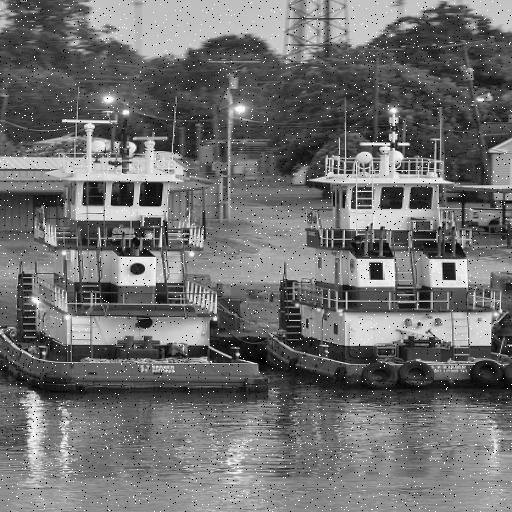tugboat: (1, 117, 277, 403), (263, 138, 512, 399)
